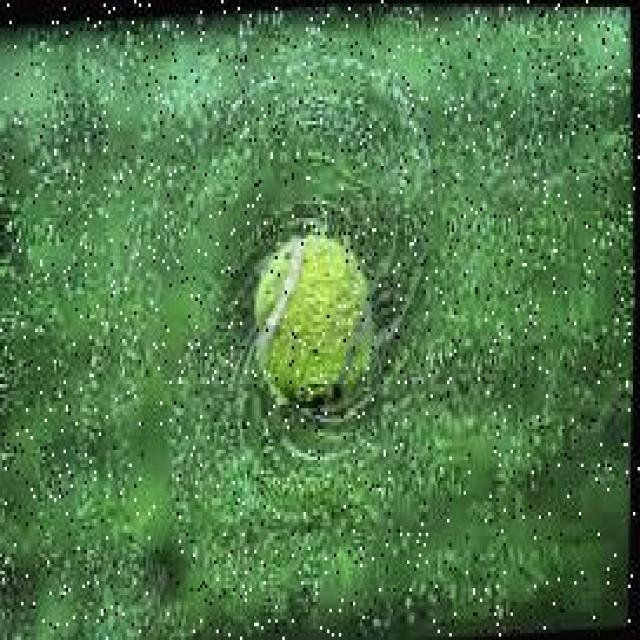tennis-ball: (253, 220, 397, 420)
